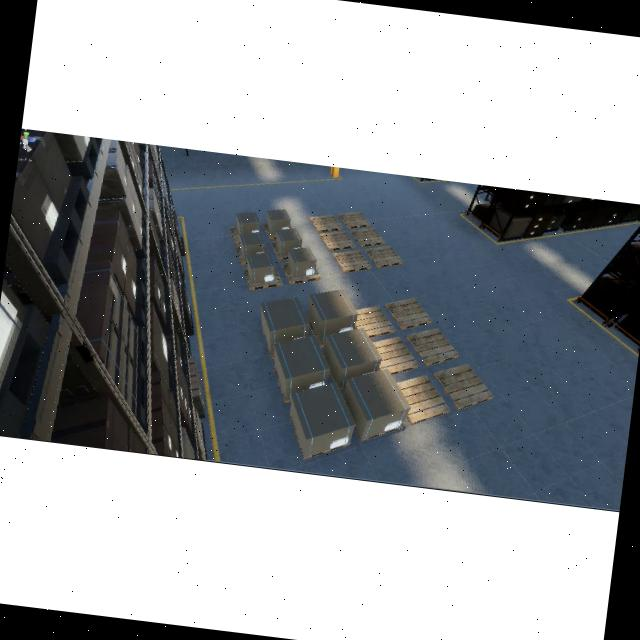wooden_pallet: (432, 363, 494, 410), (406, 327, 459, 366), (372, 336, 418, 375), (384, 297, 432, 330), (281, 261, 320, 285)
